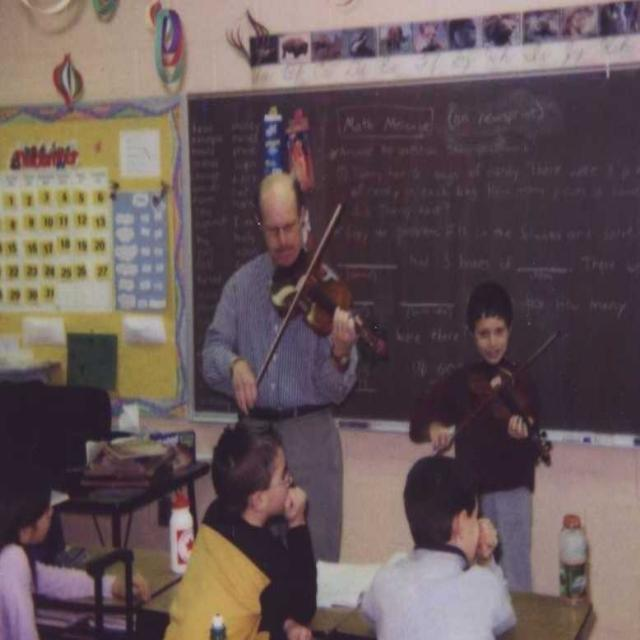violin: (267, 250, 390, 360), (466, 353, 558, 468)
